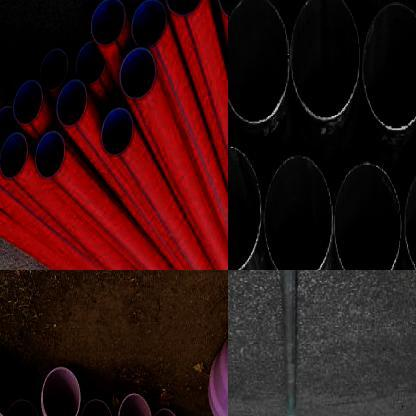pipe: (288, 0, 362, 121), (259, 153, 334, 270), (330, 159, 404, 270), (228, 0, 292, 124), (362, 2, 416, 129), (228, 143, 263, 270), (42, 366, 81, 416), (120, 48, 156, 98), (131, 0, 166, 48), (306, 0, 373, 24), (91, 0, 125, 45), (56, 78, 87, 126), (102, 107, 132, 156), (34, 130, 64, 178), (75, 40, 105, 84), (13, 80, 42, 125), (0, 131, 27, 178), (40, 48, 69, 90), (374, 0, 416, 26), (117, 393, 152, 416), (0, 106, 19, 148), (241, 0, 309, 10), (80, 397, 114, 416), (165, 0, 205, 16), (6, 397, 39, 416)
